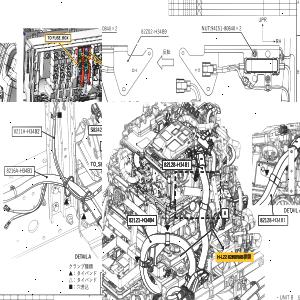PartNumber: (211, 24, 236, 32), (141, 28, 167, 35), (6, 167, 32, 174), (164, 161, 190, 168), (129, 217, 155, 224), (13, 128, 40, 134), (260, 217, 286, 223), (90, 126, 102, 132), (102, 25, 111, 31)
